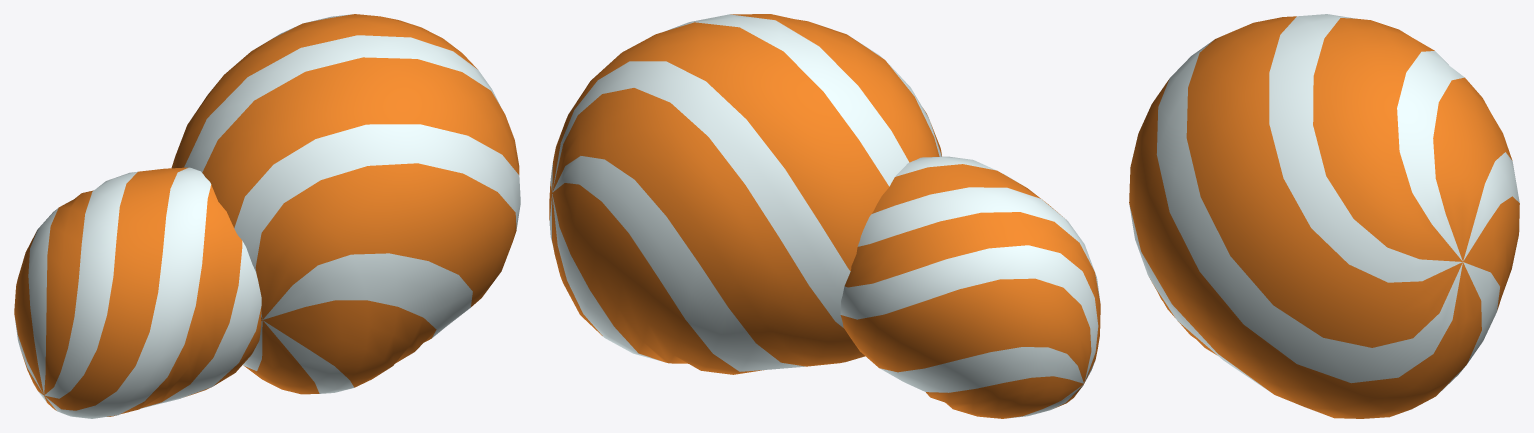
File: CandyPlant_A_02.fbx
The picture shows the model from 3 angles, left to right: view 1: azimuth 30°, elevation 25°; view 2: azimuth 150°, elevation 25°; view 3: azimuth 270°, elevation 25°; orthographic projection. The views are drawn at different scales.
Parts seen in each view (by area): view 1: CandyPlant_A_02_LOD0; view 2: CandyPlant_A_02_LOD0; view 3: CandyPlant_A_02_LOD0.
Boxes of the visible parts, x1,y1,x2,y2 form: CandyPlant_A_02_LOD0: (14, 14, 520, 418); CandyPlant_A_02_LOD0: (549, 14, 1100, 418); CandyPlant_A_02_LOD0: (1129, 14, 1519, 418).
Size of what is drawn, in the model's own units: 626 by 394 by 396.
